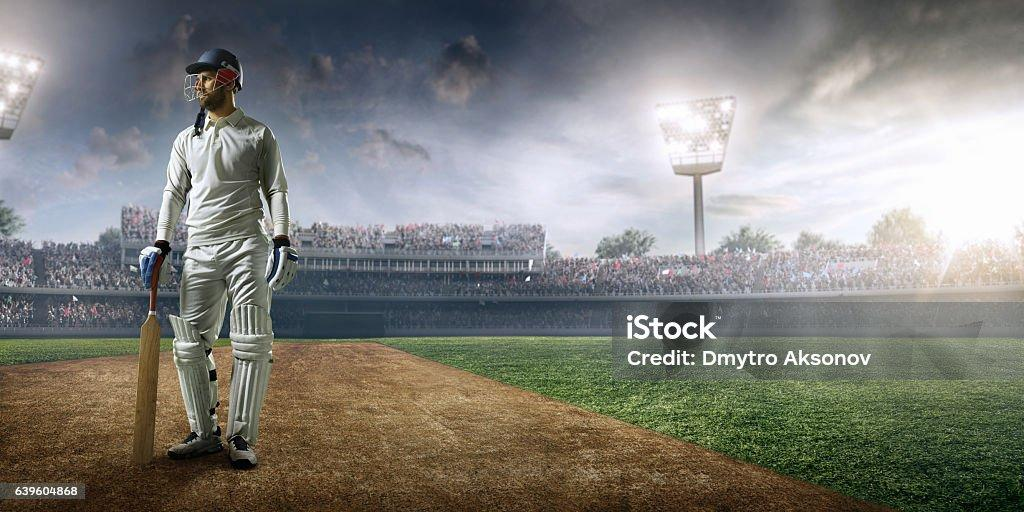batsman: (124, 44, 286, 490)
